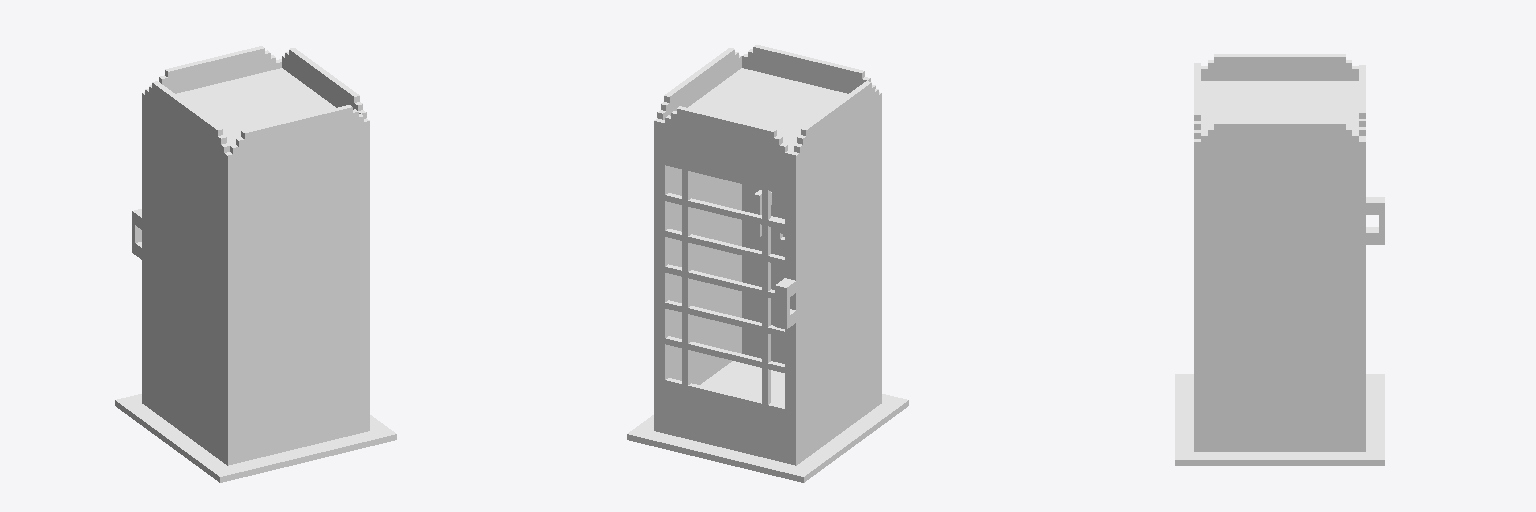
Rendered from phonebox.obj.
3 renders of one model, left to right at view 1: azimuth 30°, elevation 25°; view 2: azimuth 150°, elevation 25°; view 3: azimuth 270°, elevation 25°, orthographic.
Parts seen in each view (by area): view 1: object 1; view 2: object 1; view 3: object 1.
Boxes of the visible parts, x1,y1,x2,y2 form: object 1: [115, 46, 396, 482]; object 1: [627, 45, 908, 482]; object 1: [1175, 54, 1384, 465].
Size of the model in its own units: 3.1 by 5.6 by 3.2.